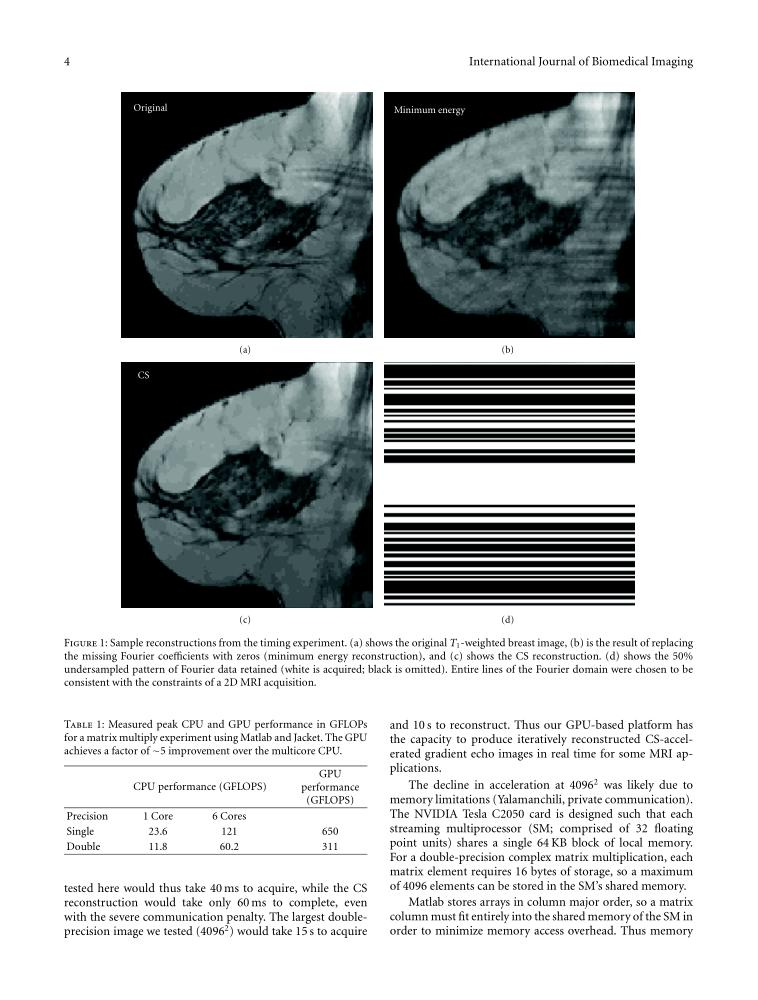table: (66, 768, 358, 852)
